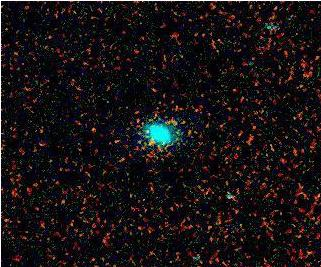star: (133, 128, 163, 158)
